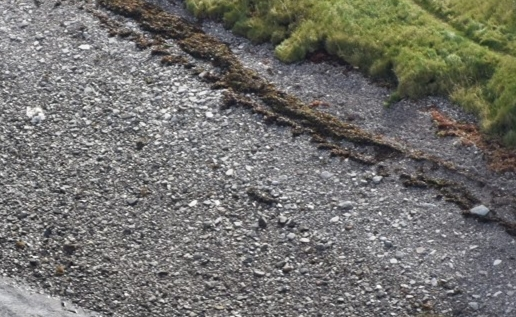white_in_green: (1, 83, 65, 142)
